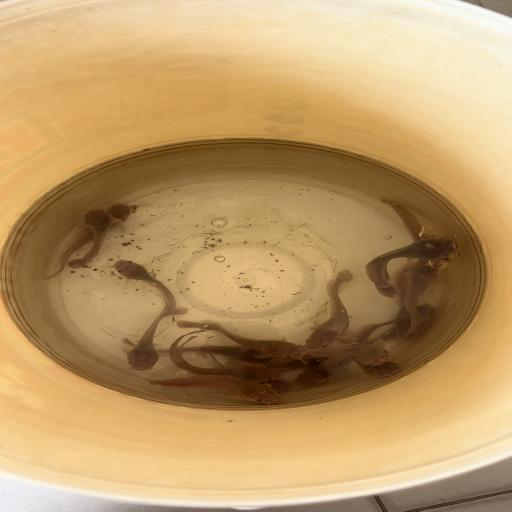lele: (298, 317, 405, 387), (42, 202, 136, 280), (176, 335, 291, 394), (170, 330, 284, 384), (363, 237, 460, 299), (174, 319, 312, 359), (379, 199, 456, 267), (119, 334, 277, 364), (300, 270, 356, 352), (120, 307, 189, 373), (144, 374, 282, 404), (110, 259, 180, 312), (349, 316, 405, 377), (402, 259, 444, 336), (66, 208, 118, 270), (266, 344, 390, 370), (368, 302, 439, 344), (388, 261, 424, 340)
